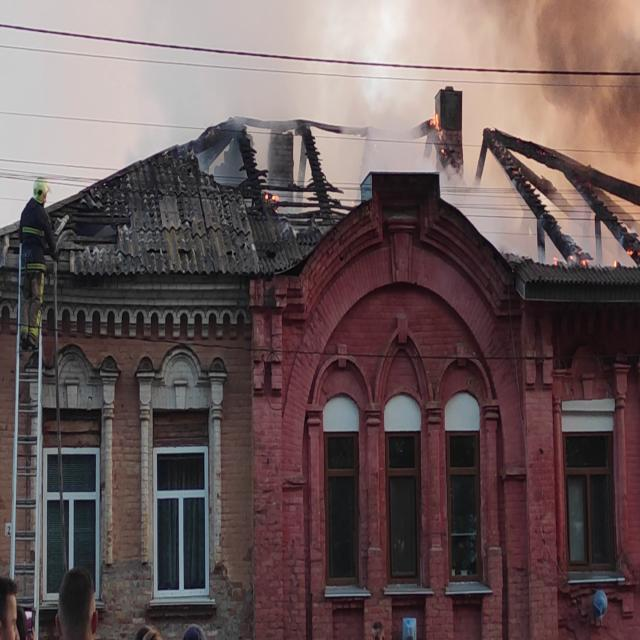smoke: (551, 0, 638, 158), (540, 195, 596, 271)
